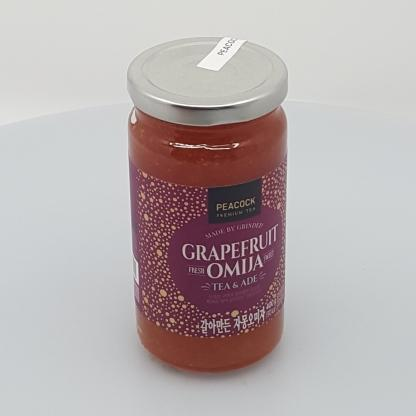---------------400G: (127, 36, 288, 373)
